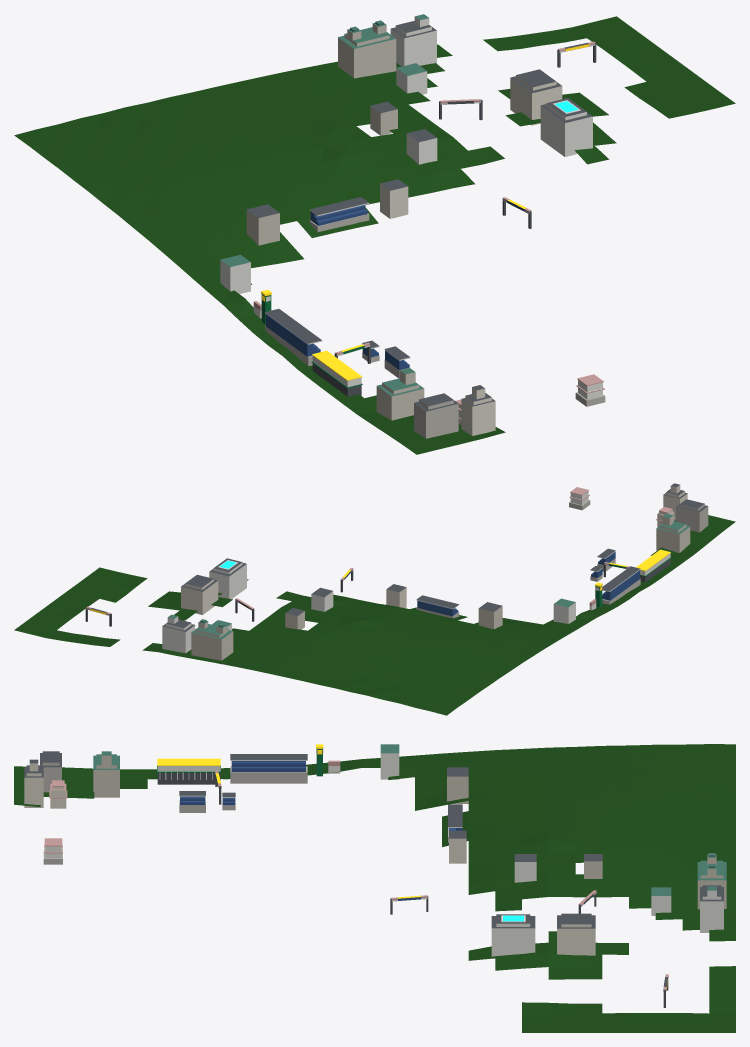
File: monaco_buildings.dae
3 views of the same model, one above another, from view 1: azimuth 30°, elevation 25°; view 2: azimuth 150°, elevation 25°; view 3: azimuth 270°, elevation 25° (orthographic). The views are drawn at different scales.
Parts seen in each view (by area): view 1: monaco_buildings; view 2: monaco_buildings; view 3: monaco_buildings.
Boxes of the visible parts, x1,y1,x2,y2 form: monaco_buildings: (14, 14, 735, 454); monaco_buildings: (14, 483, 735, 715); monaco_buildings: (14, 744, 735, 1032).
Size of the model in its own units: 258 by 298 by 29.4.
